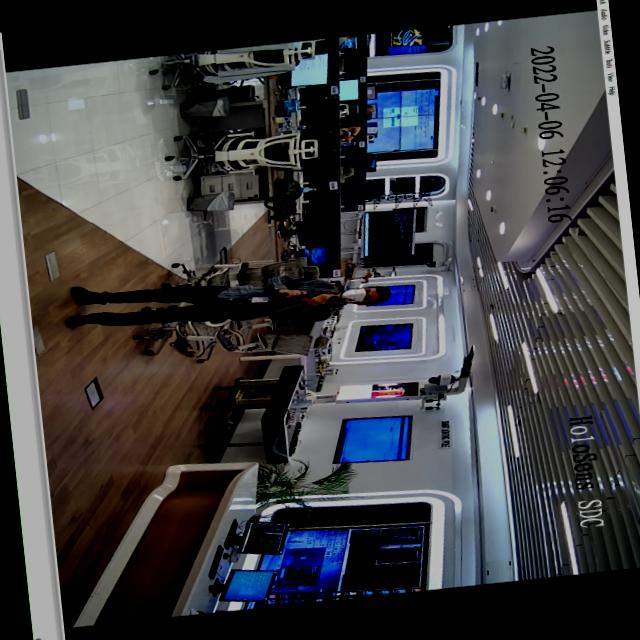long weapon: (274, 280, 358, 312)
